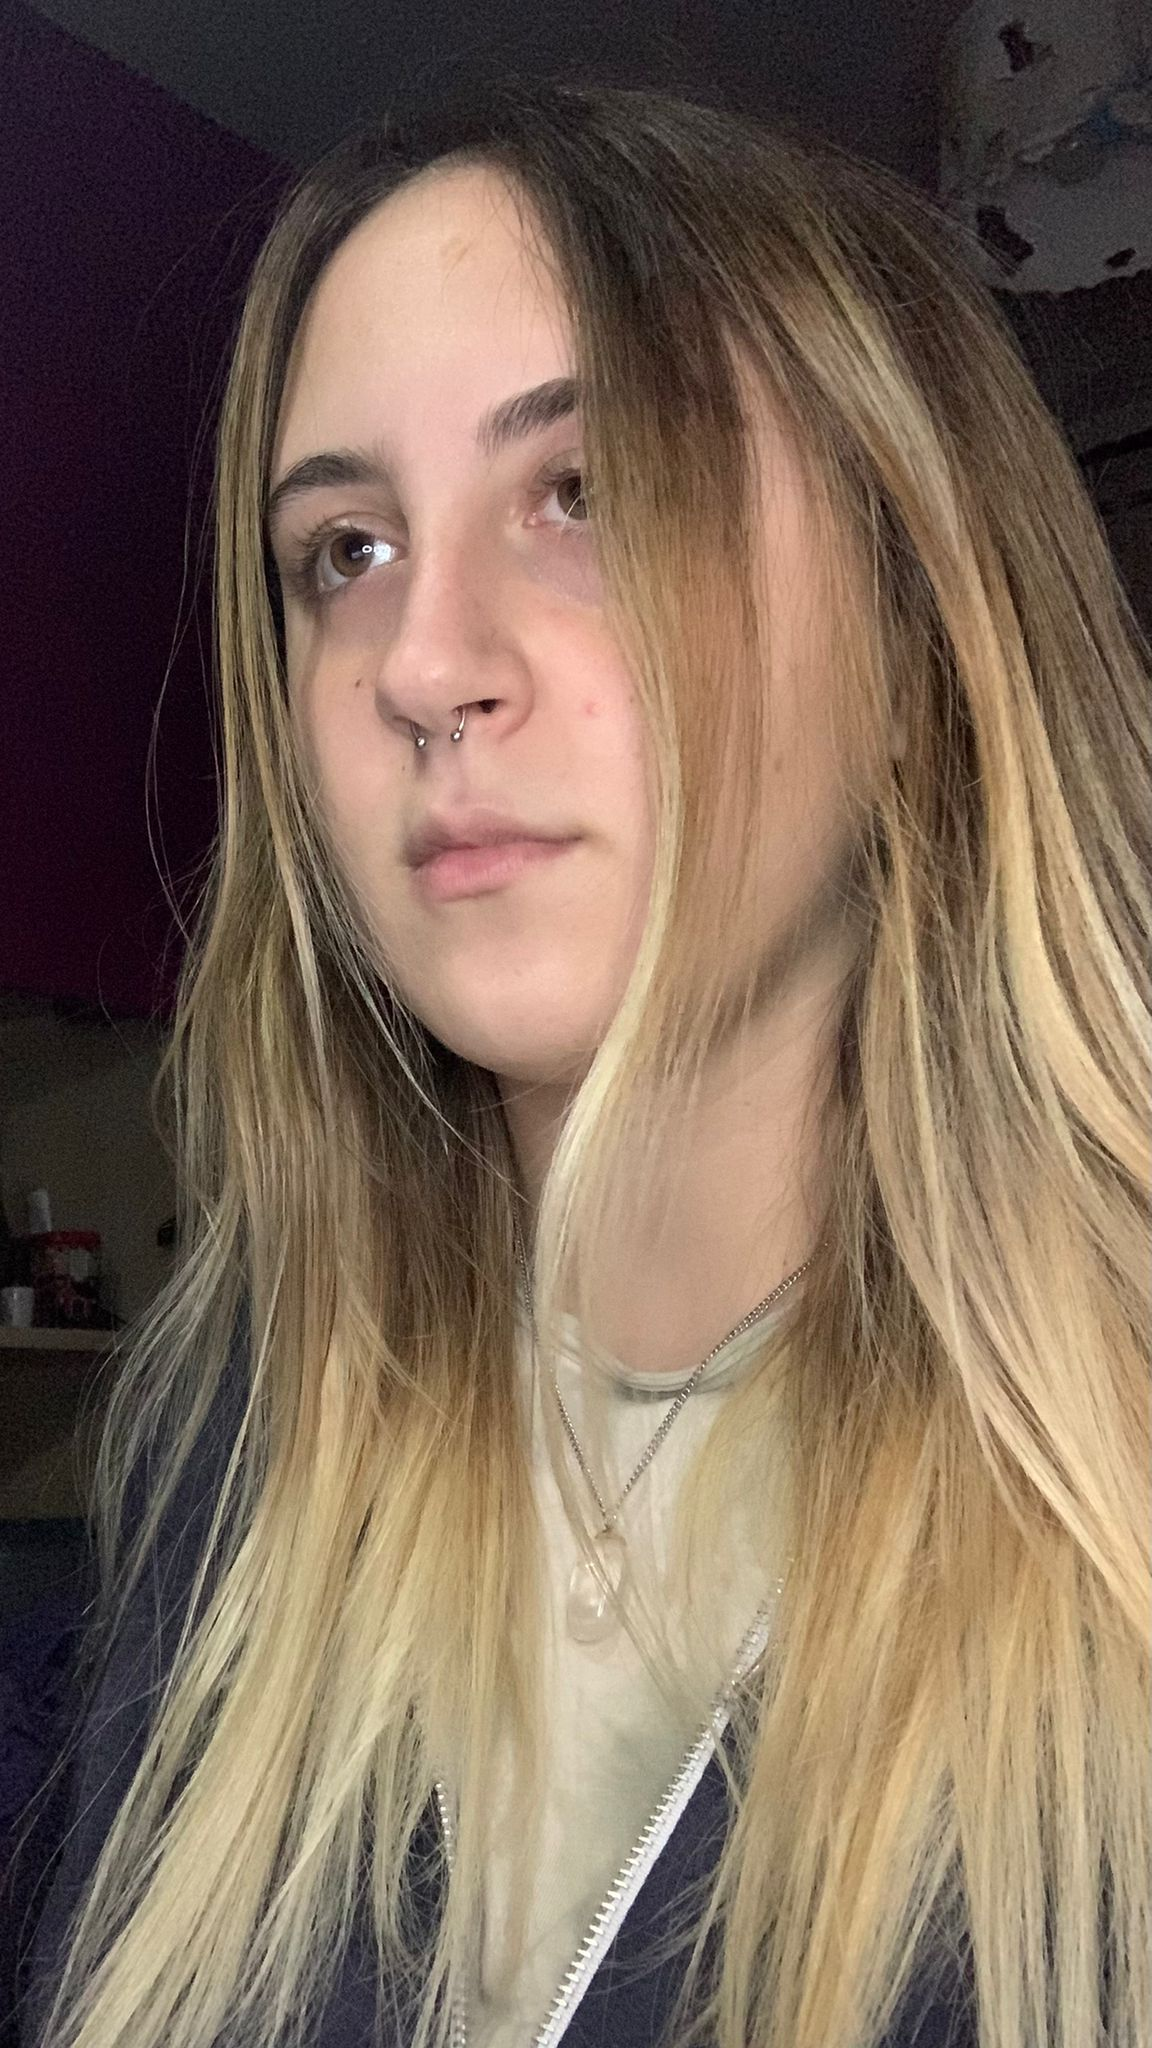without_mask: (228, 124, 1051, 1162)
